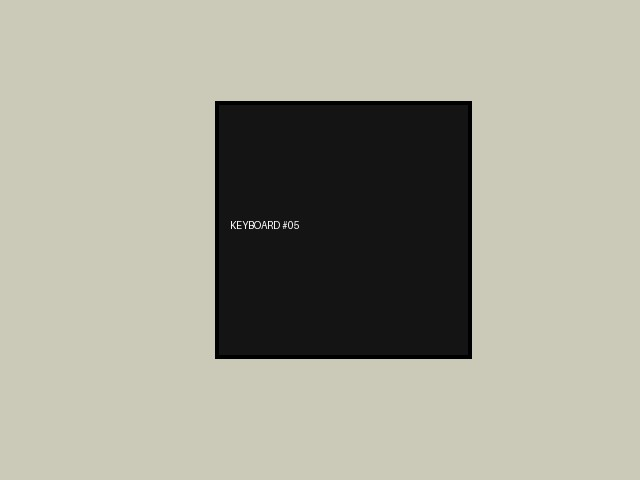keyboard: (215, 101, 471, 358)
